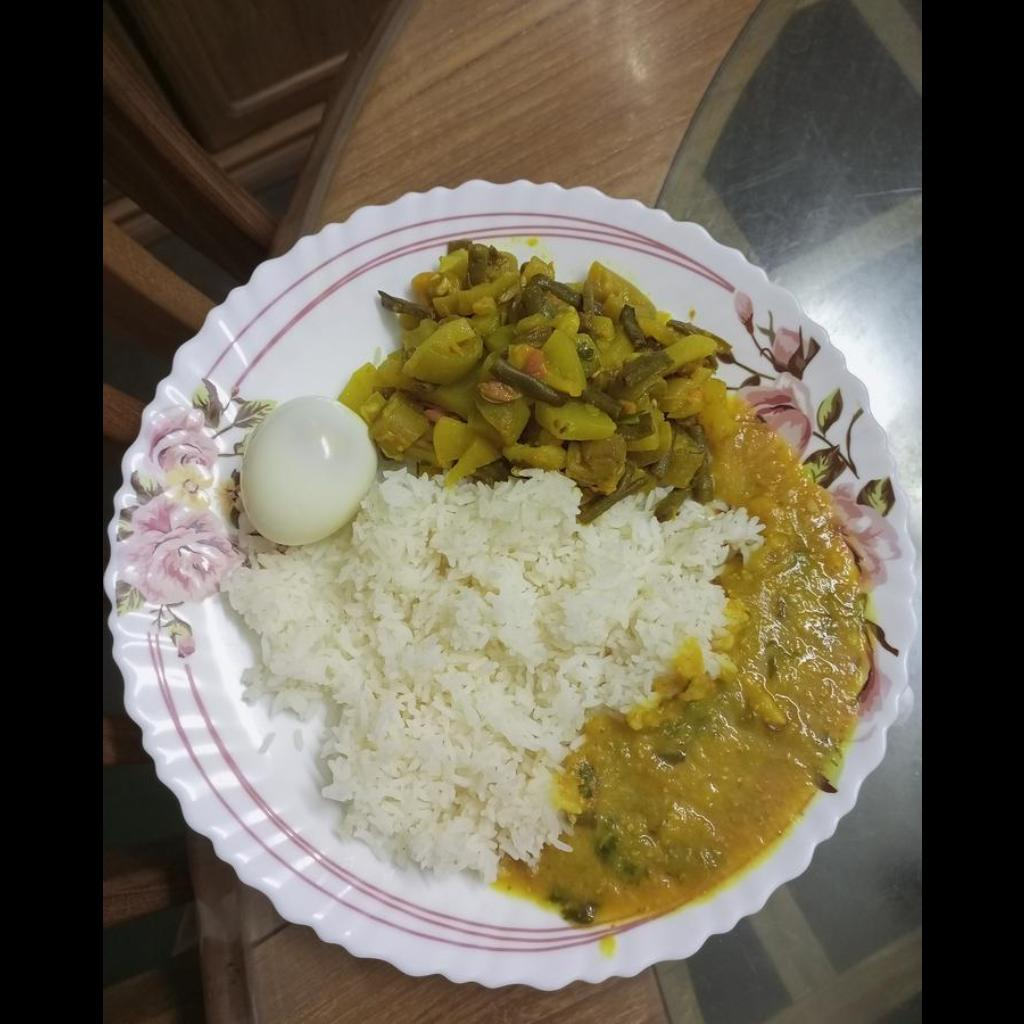daal: (512, 389, 864, 915)
egg-boiled: (235, 401, 371, 550)
rice: (212, 483, 757, 874)
vegetable: (361, 243, 732, 481)
